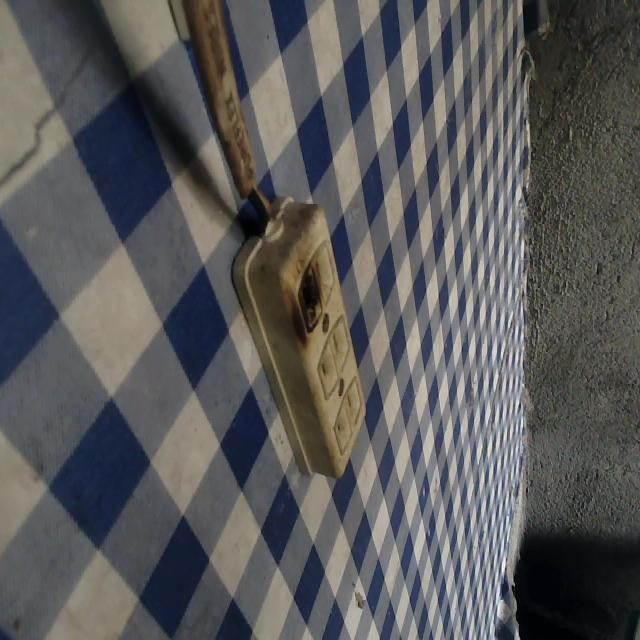-: (285, 258, 327, 334)
